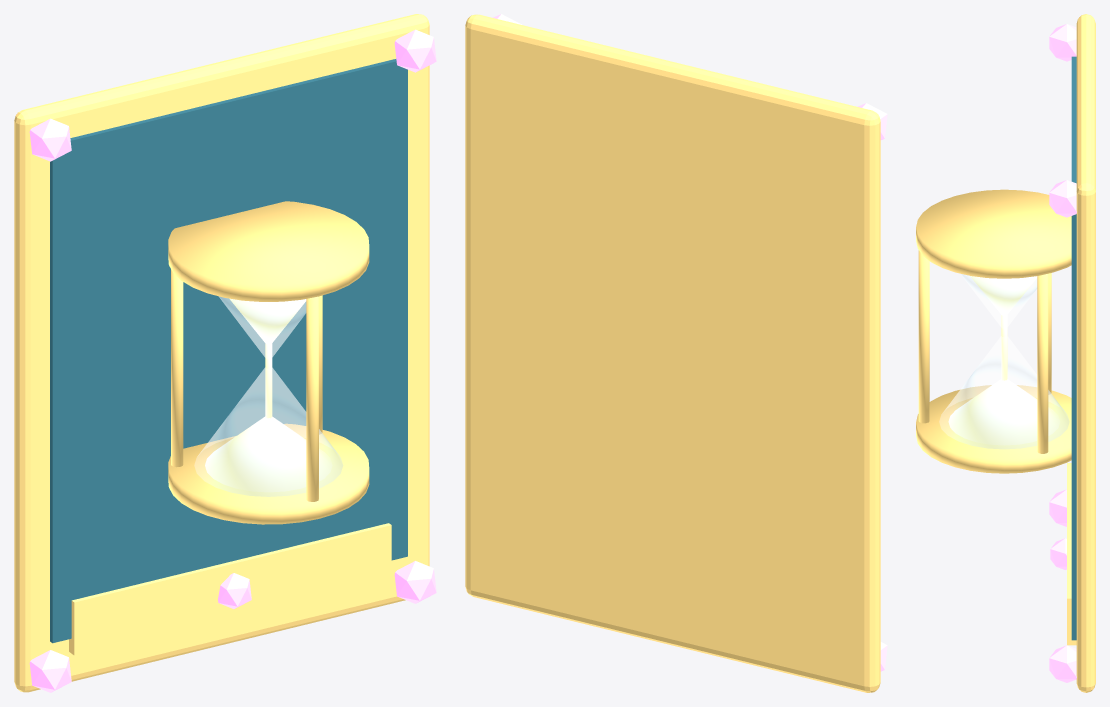
Rendered from Sands_of_Eternity.glb.
3 views of the same model, side by side, from view 1: azimuth 30°, elevation 25°; view 2: azimuth 150°, elevation 25°; view 3: azimuth 270°, elevation 25° (orthographic). The views are drawn at different scales.
Parts seen in each view (by area): view 1: Cube.014, Cube.013, Cube.015, Cylinder.002, Cone.023, Cylinder.003, Cone.025, Cone.022, Cylinder.006, Cylinder.005, Cone.024, Icosphere.043 (+4 smaller); view 2: Cube.013; view 3: Cube.013, Cylinder.002, Cone.023, Cylinder.003, Cone.025, Cube.014, Cone.022, Cylinder.004, Cylinder.006, Cone.024, Cube.015, Icosphere.044 (+6 smaller).
Part boxes in pixels (<box>): Cube.014: <box>50,59,407,643</box>; Cube.013: <box>14,14,429,692</box>; Cube.015: <box>69,523,391,655</box>; Cylinder.002: <box>168,201,369,301</box>; Cone.023: <box>194,367,342,496</box>; Cylinder.003: <box>168,424,369,524</box>; Cone.025: <box>205,417,332,492</box>; Cone.022: <box>219,296,306,358</box>; Cylinder.006: <box>306,296,318,501</box>; Cylinder.005: <box>171,269,183,467</box>; Cone.024: <box>230,298,306,344</box>; Icosphere.043: <box>29,118,71,161</box>; Cube.013: <box>465,14,880,692</box>; Cube.013: <box>1076,14,1095,692</box>; Cylinder.002: <box>916,189,1071,278</box>; Cone.023: <box>939,336,1069,448</box>; Cylinder.003: <box>916,385,1071,473</box>; Cone.025: <box>948,379,1059,445</box>; Cube.014: <box>1071,56,1076,640</box>; Cone.022: <box>961,274,1037,328</box>; Cylinder.004: <box>1037,274,1048,453</box>; Cylinder.006: <box>918,250,929,423</box>; Cone.024: <box>970,276,1037,315</box>; Cube.015: <box>1067,463,1076,645</box>; Icosphere.044: <box>1049,645,1076,682</box>.
Bounding box in the file's own units: 2.6 × 3.5 × 1.12.
